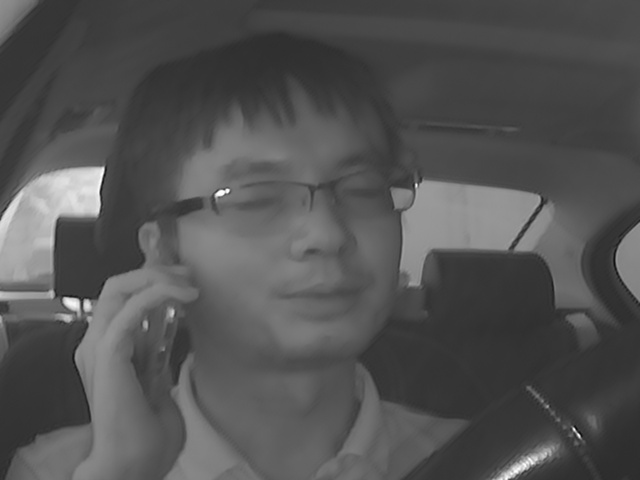hand: (73, 260, 208, 469)
